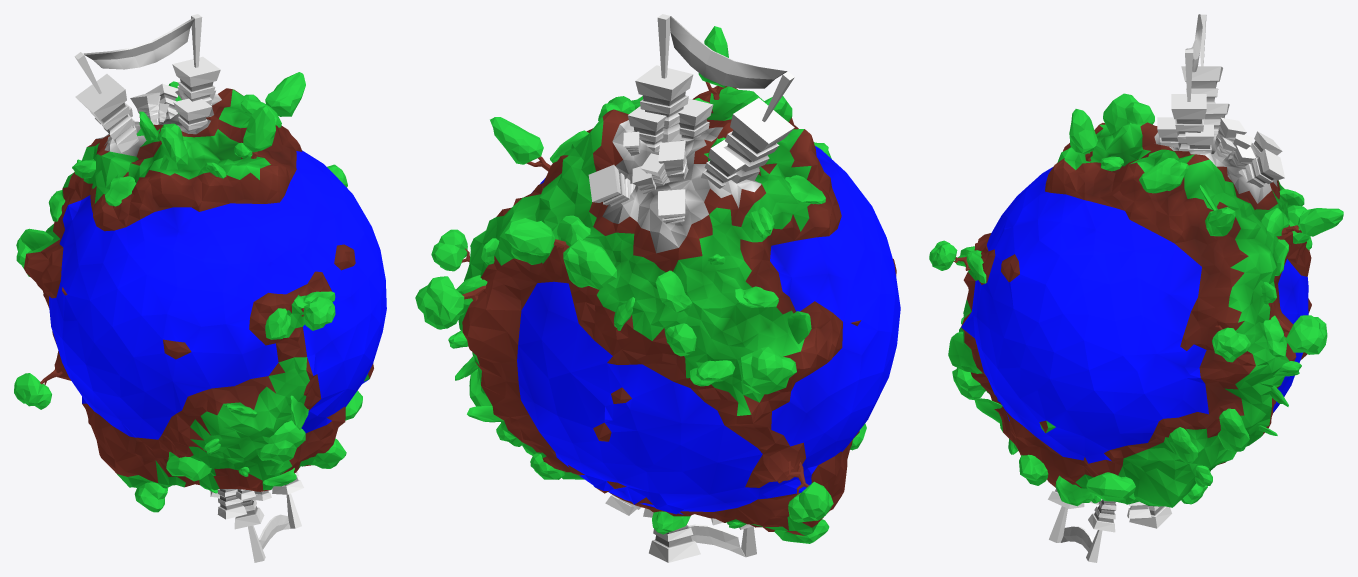
File: planetefinale.fbx
3 views of the same model, side by side, from view 1: azimuth 30°, elevation 25°; view 2: azimuth 150°, elevation 25°; view 3: azimuth 270°, elevation 25° (orthographic). The views are drawn at different scales.
Visible parts, largest first — view 1: Mball.009; view 2: Mball.009; view 3: Mball.009.
Part boxes in pixels (box(x1,y1,x2,y2)): Mball.009: box(14, 14, 386, 562); Mball.009: box(415, 14, 900, 562); Mball.009: box(929, 14, 1343, 562).
Size of the model in its own units: 1119 by 1623 by 1234.
